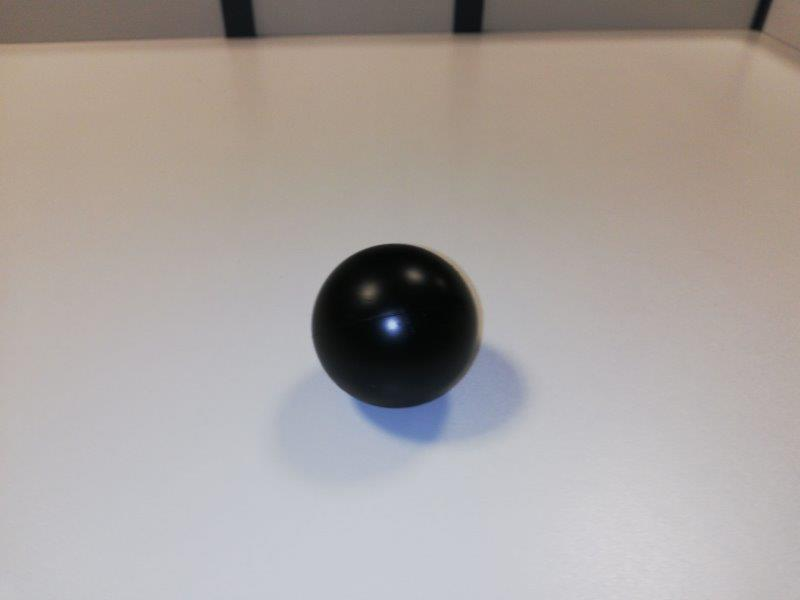nera: (314, 243, 481, 411)
